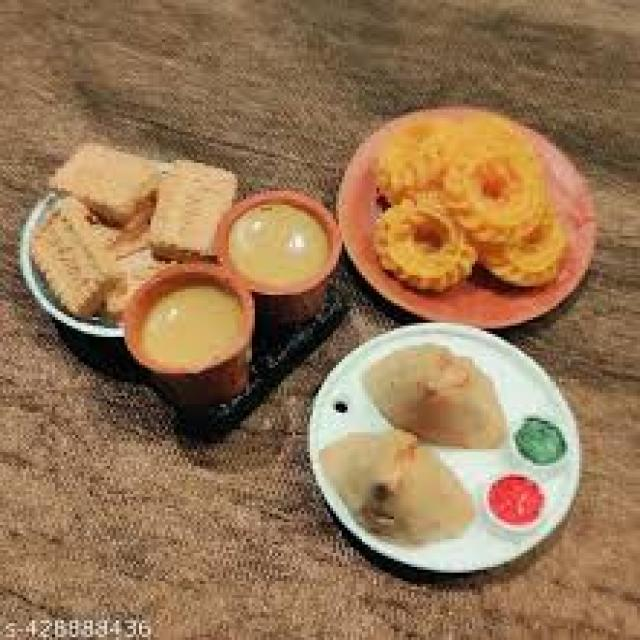SAMOSA: (330, 432, 472, 542), (368, 345, 501, 441)
